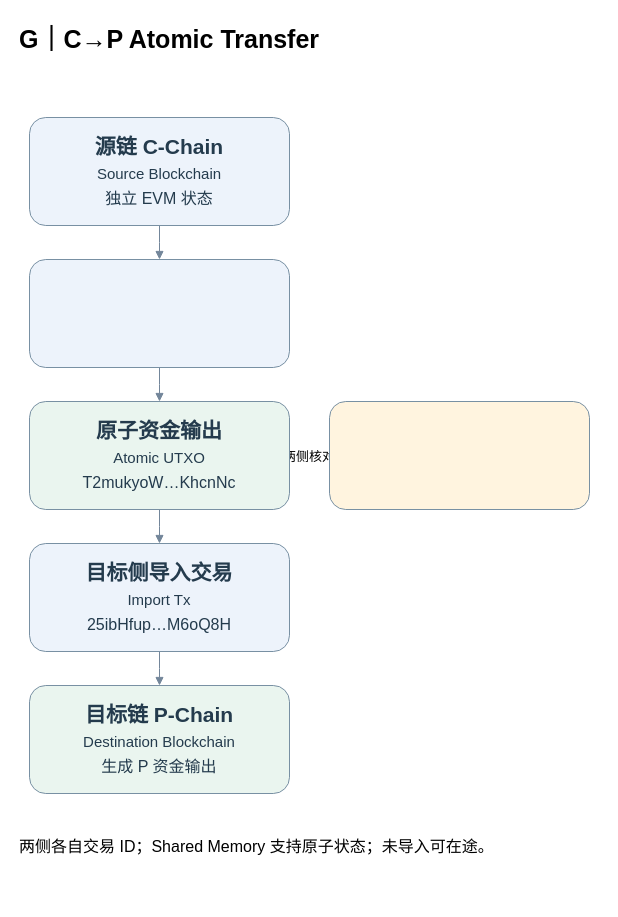
The diagram is 618 pixels wide and 917 high, and some of its shapes have lost their labels. The centre of each missing label's shape, as x and y in pixels:
本案共同身份 Case 03 Link UTXO · Asset · Chain: pixel 459 455
源侧导出交易 Export Tx 2Li6pS4F…YaArXaq: pixel 159 313
